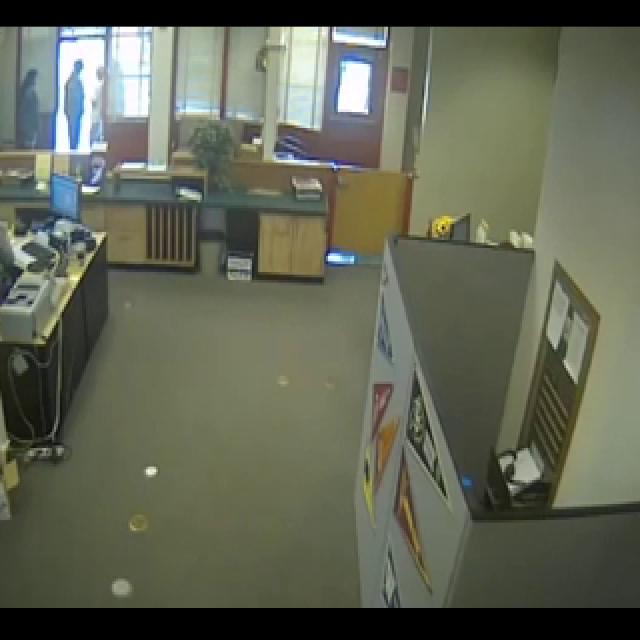arrest: (5, 39, 178, 203)
